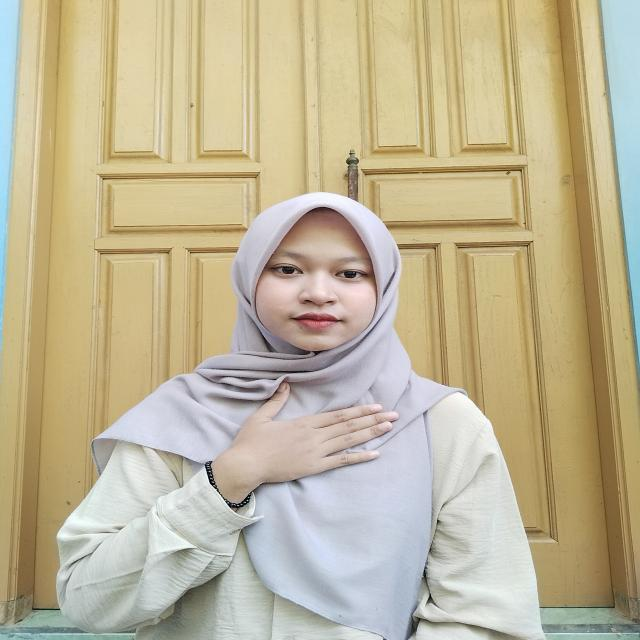tolong: (188, 381, 408, 523)
